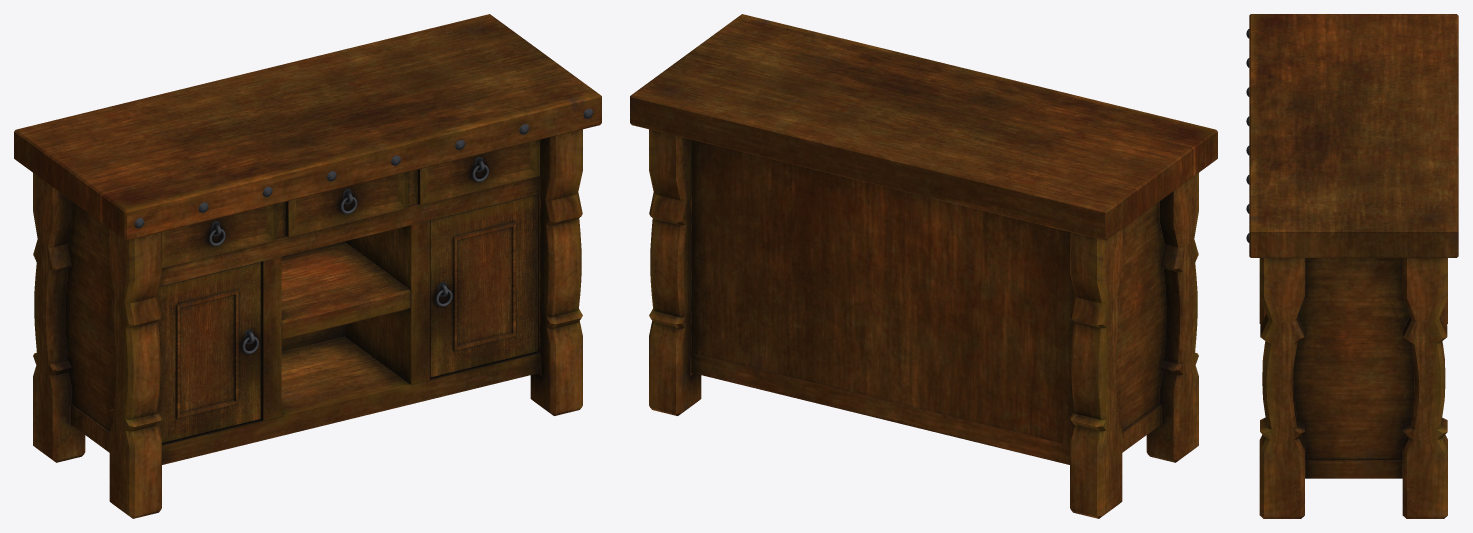
File: table_1.glb
3 renders of one model, left to right at view 1: azimuth 30°, elevation 25°; view 2: azimuth 150°, elevation 25°; view 3: azimuth 270°, elevation 25°, orthographic. The views are drawn at different scales.
Visible parts, largest first — view 1: Cube.004, Cube.005, Cube.010, Cube.006, Cube.015, Cube.009, Cube.012, Cube.008, Cube.007, Cube.011, Cube.013, Sphere; view 2: Cube.011, Cube.004, Cube.005, Cube.012, Cube.006; view 3: Cube.004, Cube.012, Cube.005, Cube.006, Sphere.
Boxes of the visible parts, left/top/right/bottom form: Cube.004: left=14, top=14, right=601, bottom=240; Cube.005: left=33, top=129, right=582, bottom=518; Cube.010: left=157, top=194, right=538, bottom=443; Cube.006: left=70, top=336, right=540, bottom=464; Cube.015: left=162, top=140, right=539, bottom=267; Cube.009: left=261, top=220, right=429, bottom=420; Cube.012: left=65, top=201, right=115, bottom=431; Cube.008: left=281, top=242, right=410, bottom=339; Cube.007: left=159, top=174, right=540, bottom=286; Cube.011: left=281, top=241, right=345, bottom=351; Cube.013: left=276, top=140, right=540, bottom=237; Sphere: left=134, top=108, right=593, bottom=228; Cube.011: left=691, top=140, right=1074, bottom=445; Cube.004: left=630, top=14, right=1217, bottom=240; Cube.005: left=649, top=129, right=1198, bottom=518; Cube.012: left=1116, top=201, right=1166, bottom=431; Cube.006: left=691, top=353, right=1161, bottom=464; Cube.004: left=1249, top=14, right=1458, bottom=257; Cube.012: left=1292, top=258, right=1414, bottom=459; Cube.005: left=1259, top=258, right=1447, bottom=518; Cube.006: left=1305, top=460, right=1402, bottom=478; Sphere: left=1246, top=29, right=1249, bottom=242.
Bounding box in the file's own units: 0.9797 × 0.6214 × 0.4043.
1 material, 1 textured.
